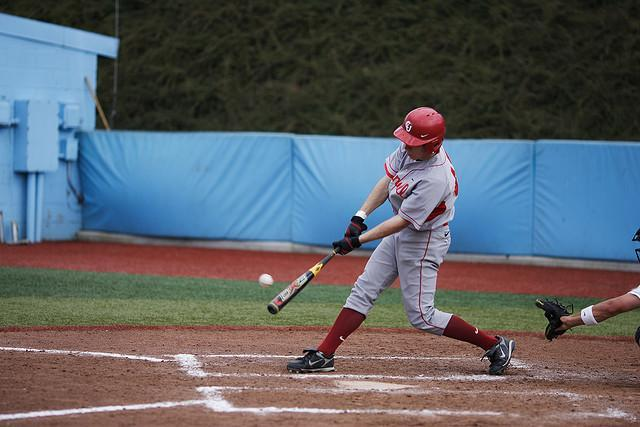baseball bat: (268, 247, 340, 317)
sports ball: (258, 272, 274, 290)
